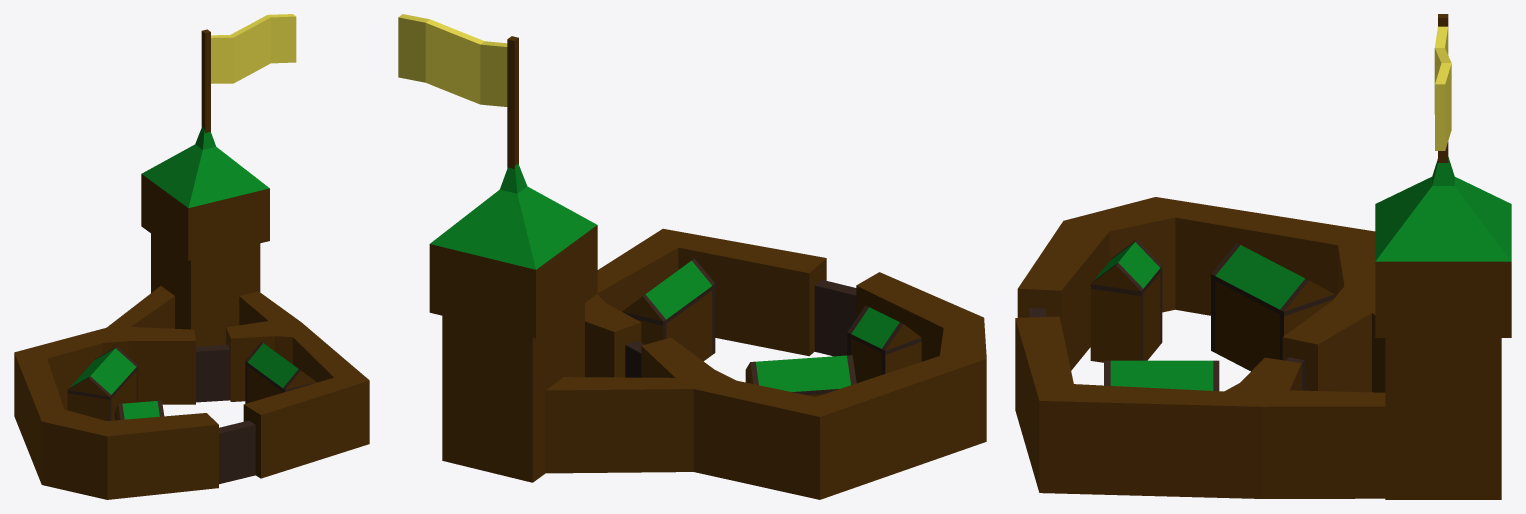
File: SM_TileOutpost.fbx
3 views of the same model, side by side, from view 1: azimuth 30°, elevation 25°; view 2: azimuth 150°, elevation 25°; view 3: azimuth 270°, elevation 25° (orthographic). The views are drawn at different scales.
Parts seen in each view (by area): view 1: TileOutpost, TileOutpostFlag; view 2: TileOutpost, TileOutpostFlag; view 3: TileOutpost, TileOutpostFlag.
Part boxes in pixels (left/top/right/bottom): TileOutpost: left=14, top=127, right=369, bottom=499; TileOutpostFlag: left=201, top=14, right=296, bottom=132; TileOutpost: left=429, top=163, right=986, bottom=499; TileOutpostFlag: left=398, top=14, right=518, bottom=168; TileOutpost: left=1015, top=157, right=1511, bottom=499; TileOutpostFlag: left=1434, top=14, right=1451, bottom=162.
Bounding box in the file's own units: 498 × 430 × 421.
